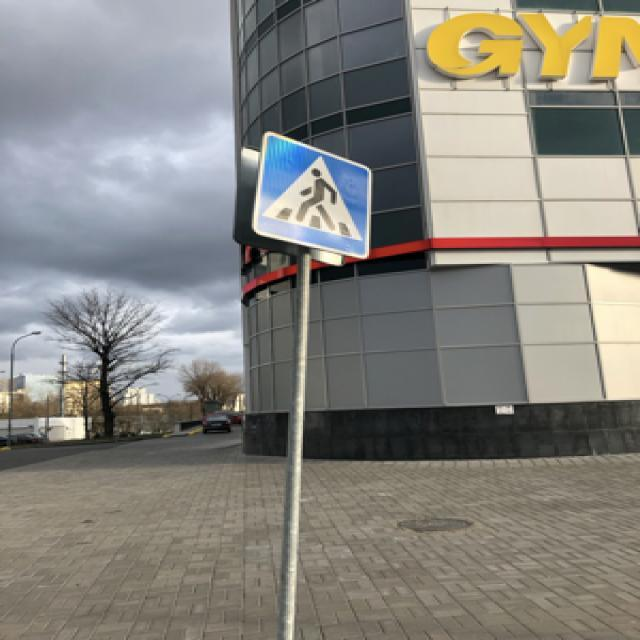crosswalk_sign: (252, 127, 374, 262)
